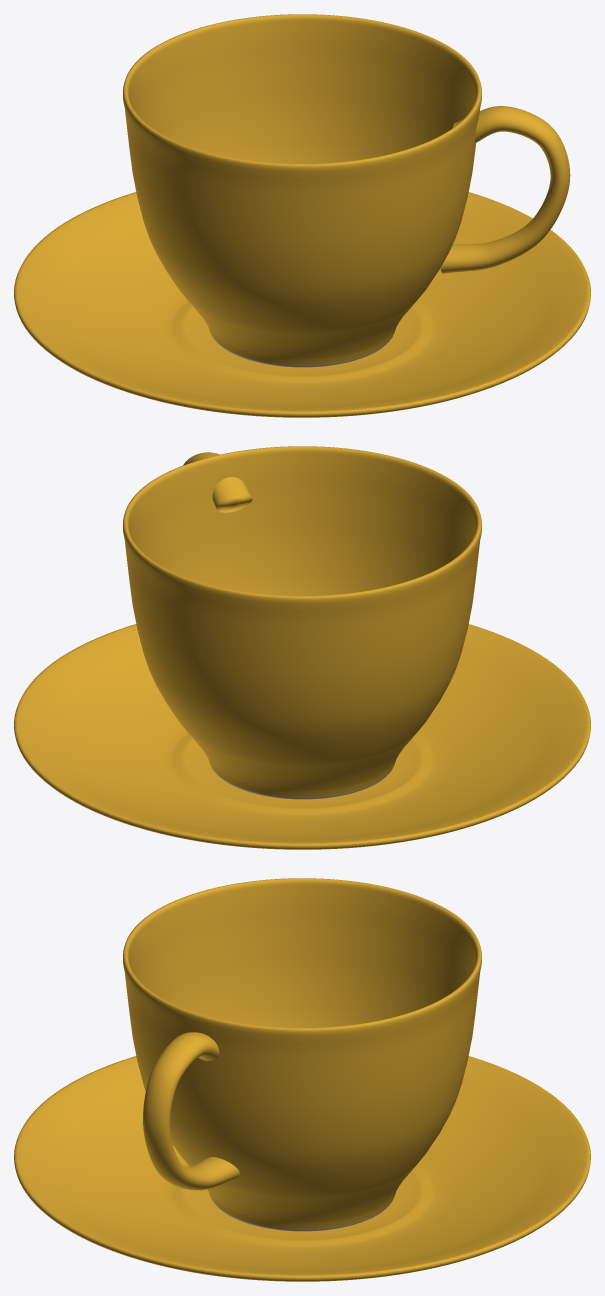
The model's file is mustard-cup-saucer.glb.
3 renders of one model, top to bottom at view 1: azimuth 30°, elevation 25°; view 2: azimuth 150°, elevation 25°; view 3: azimuth 270°, elevation 25°, orthographic.
Visible parts, largest first — view 1: cup, saucer, cup-handle; view 2: cup, saucer, cup-handle; view 3: cup, saucer, cup-handle.
Part boxes in pixels (box(x1,y1,x2,y2)): cup: box(123, 14, 481, 367); saucer: box(14, 192, 590, 417); cup-handle: box(440, 106, 570, 273); cup: box(122, 446, 482, 799); saucer: box(14, 624, 590, 849); cup-handle: box(183, 452, 252, 512); cup: box(123, 878, 481, 1231); saucer: box(14, 1056, 590, 1281); cup-handle: box(143, 1032, 239, 1190).
Bounding box in the file's own units: 0.1506 × 0.0753 × 0.1506.
3 materials, 2 textured.
